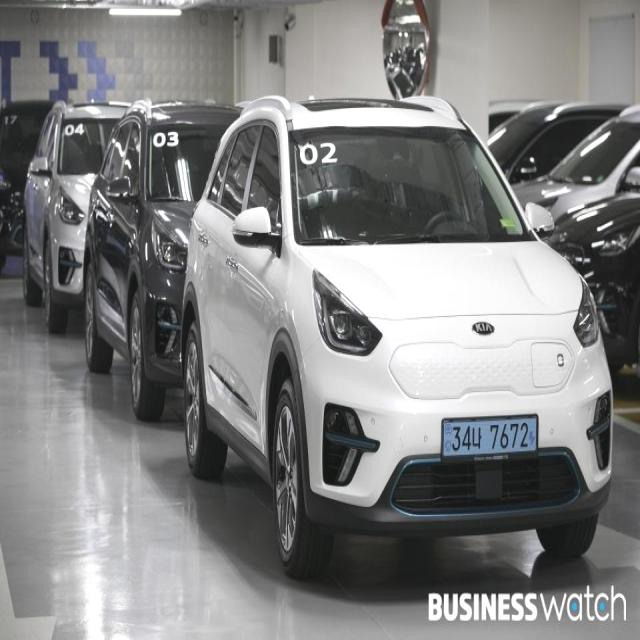EV_plate: (442, 413, 540, 462)
car: (178, 93, 614, 572)
